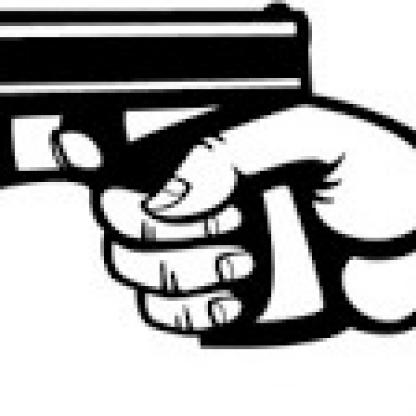gun: (0, 0, 342, 353)
